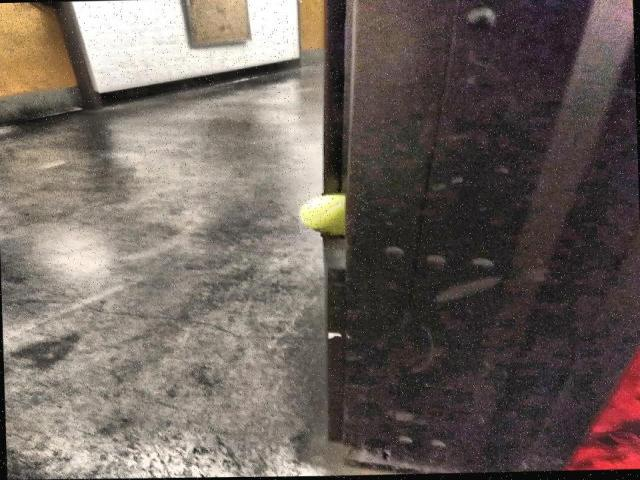tennis-ball: (297, 194, 347, 240)
